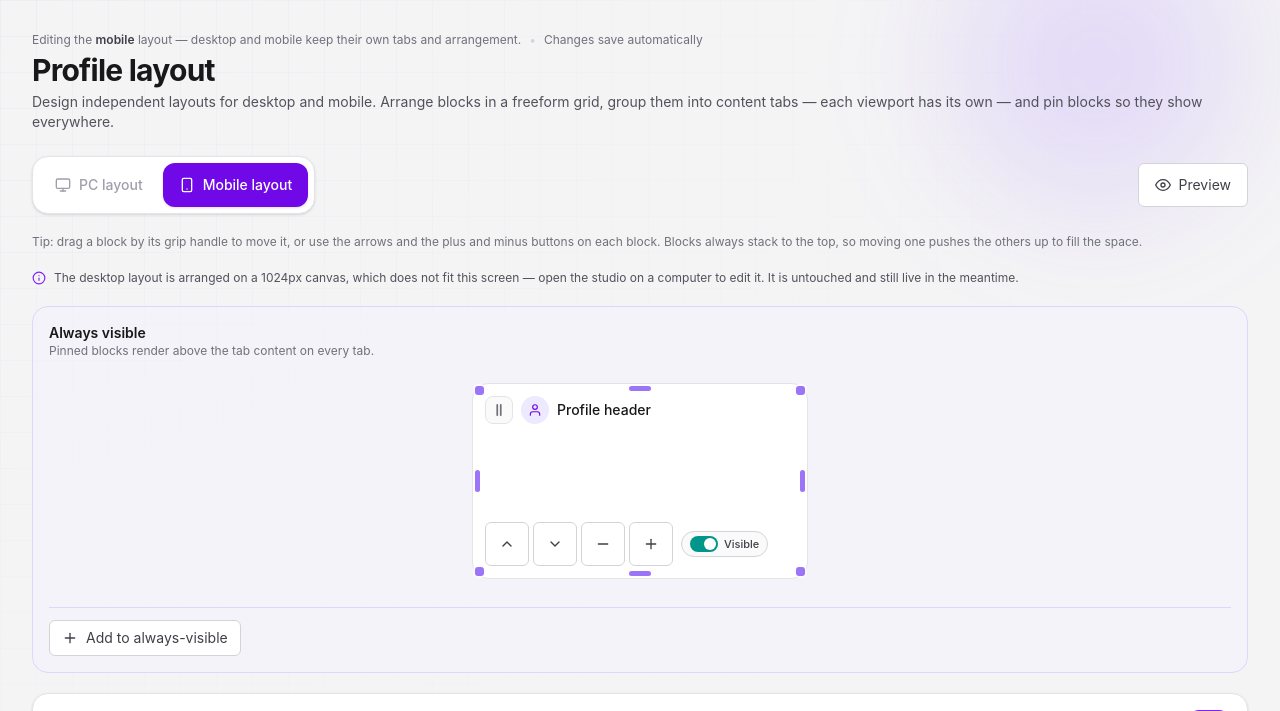
ProfileLayoutPage — the live preview modal › closes on Escape and returns focus to the button that opened it
Click the button "Preview".
click(1193, 185)  # box [1138,163,1248,207]
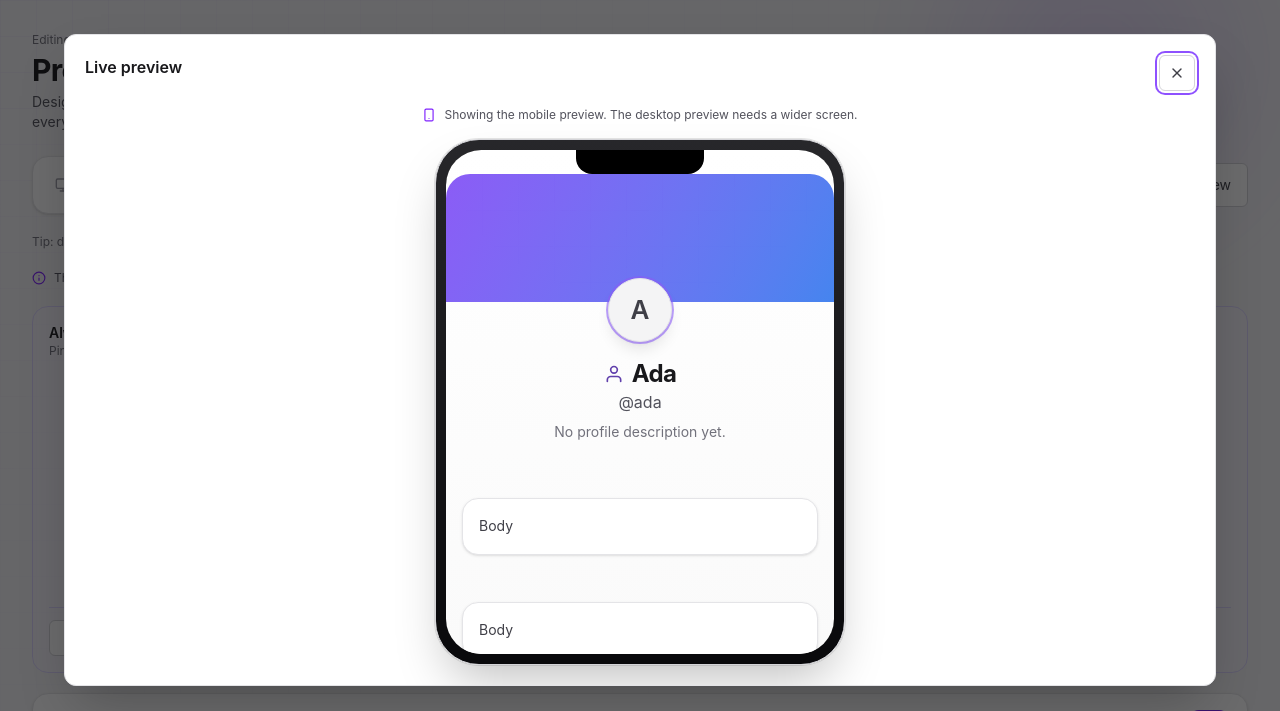
Press Escape
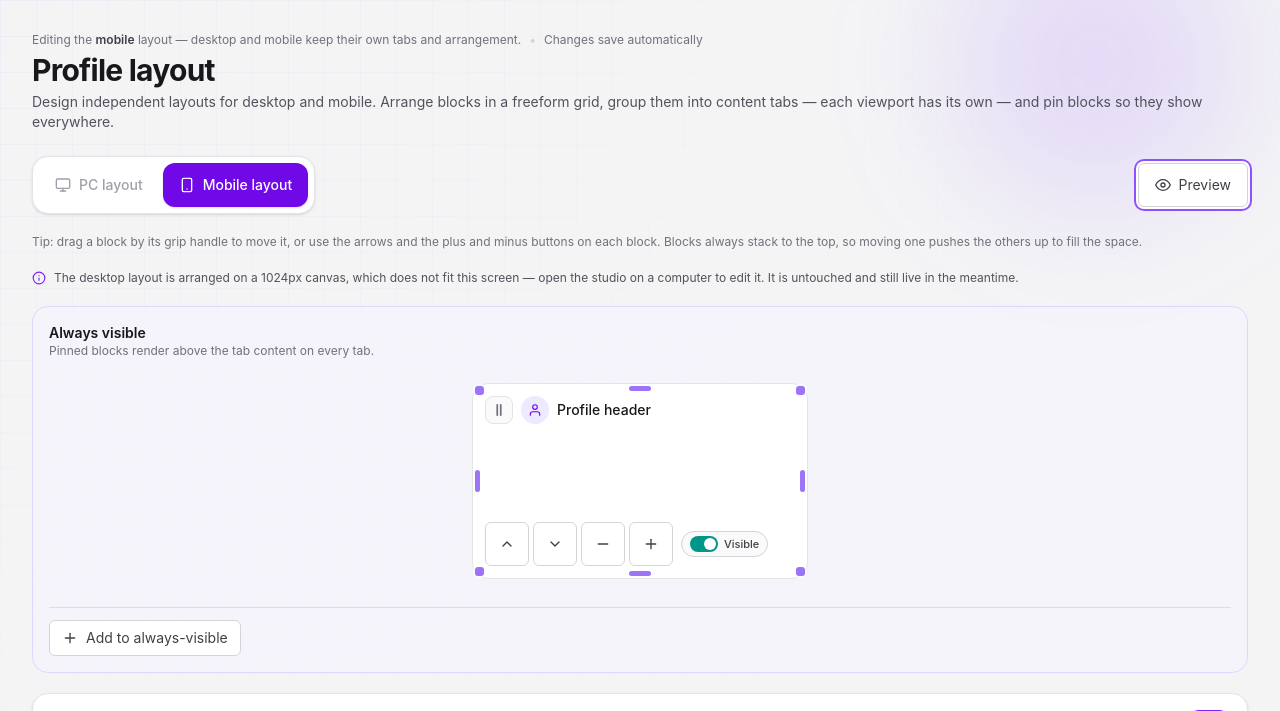
Expected: the dialog is gone
